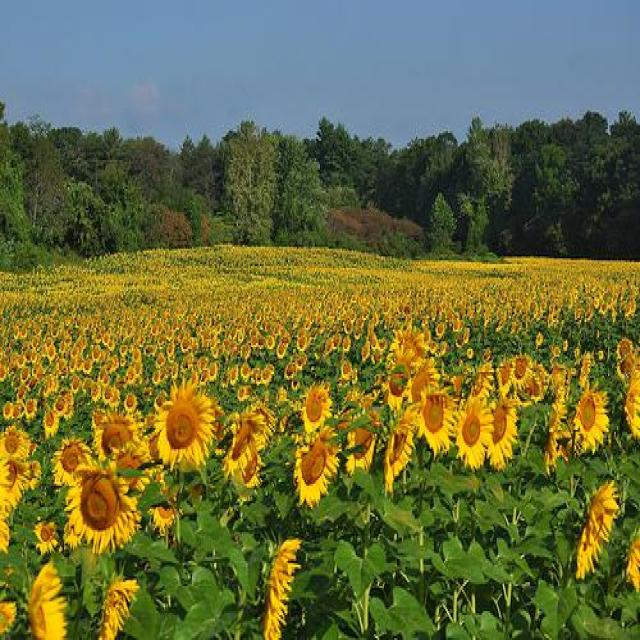sunflower: (65, 468, 142, 556), (153, 377, 217, 469), (577, 482, 616, 578), (266, 536, 300, 640), (93, 410, 145, 470), (385, 401, 419, 490), (27, 564, 67, 639), (293, 439, 339, 504), (454, 392, 492, 468), (417, 383, 456, 456), (222, 412, 264, 474), (96, 578, 137, 640), (572, 384, 608, 453), (52, 436, 93, 486), (388, 323, 434, 367), (110, 446, 154, 492), (546, 376, 567, 469), (382, 354, 418, 406), (490, 401, 518, 466), (346, 424, 376, 476), (301, 382, 326, 432), (624, 371, 640, 438), (0, 424, 27, 459), (238, 456, 266, 489), (253, 404, 277, 442), (0, 464, 10, 550), (7, 461, 24, 507), (33, 524, 59, 552), (625, 538, 640, 586), (474, 364, 496, 394), (513, 355, 533, 386), (496, 362, 514, 393), (152, 504, 174, 529), (526, 374, 544, 402), (42, 410, 60, 436), (618, 354, 635, 377), (617, 338, 635, 354), (55, 396, 66, 416), (3, 401, 15, 418), (125, 397, 137, 411), (103, 389, 113, 403)
